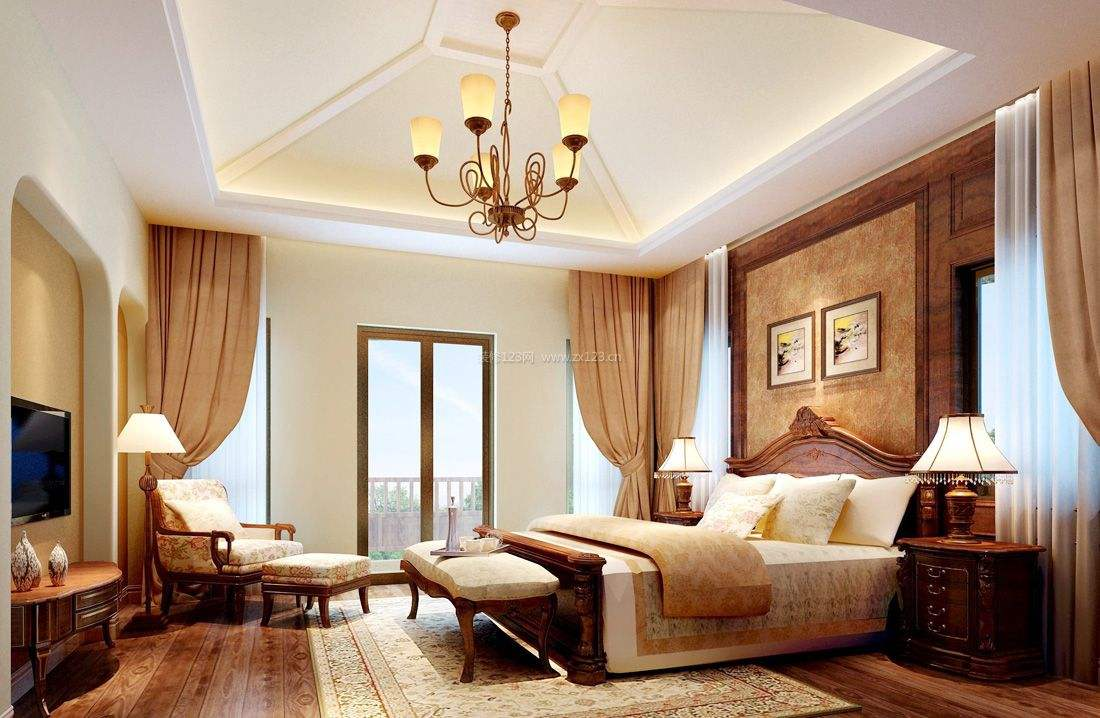床: (508, 513, 912, 679)
枕头: (696, 468, 922, 549)
灯: (394, 14, 593, 247), (913, 415, 1015, 548), (110, 408, 176, 502), (655, 433, 711, 518)
